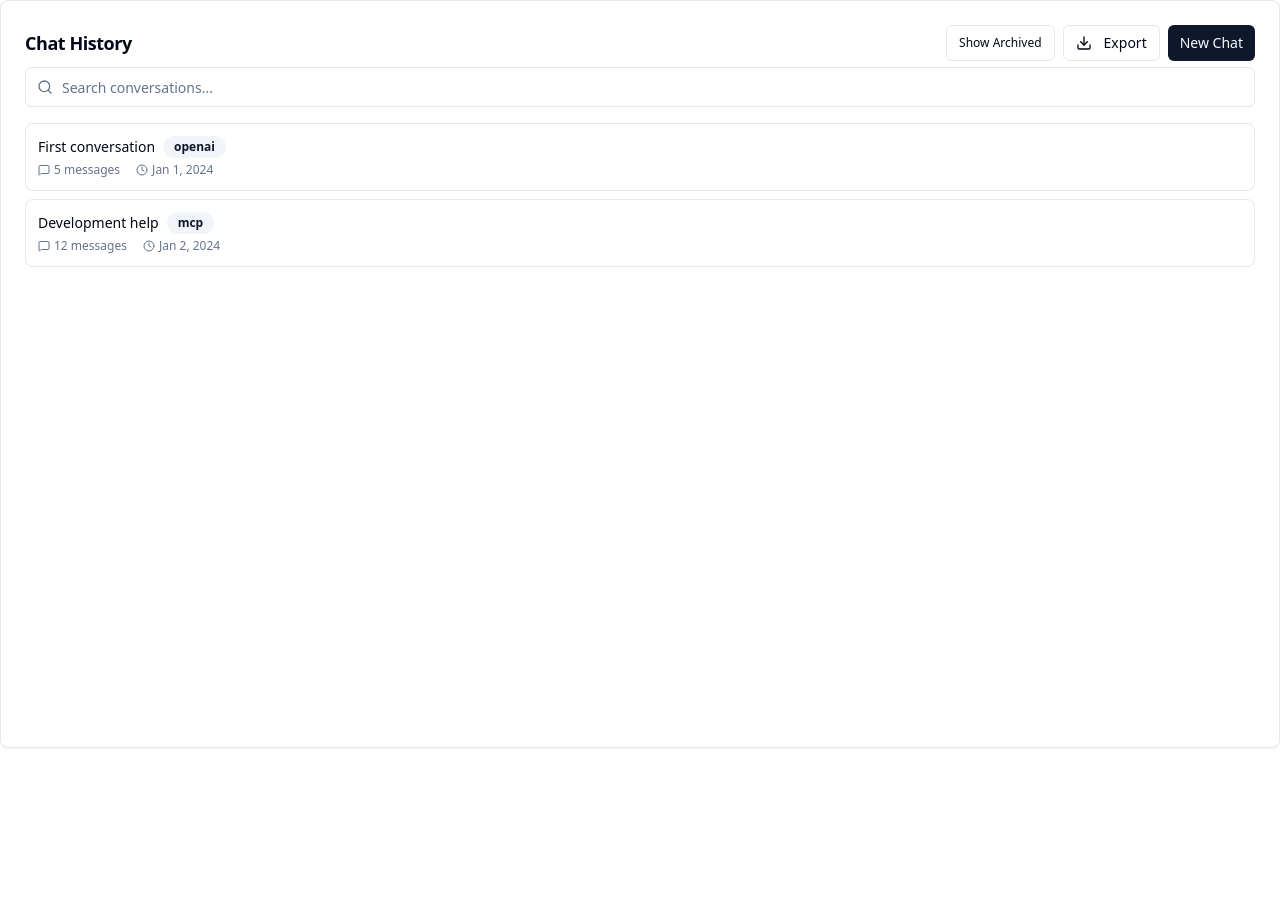
it: ChatHistory › Archive/Delete Functionality › should show archive button on conversation hover
Hover over the button with test id "conversation-1": {"x": 97, "y": 146} x1=25 y1=123 x2=1255 y2=191
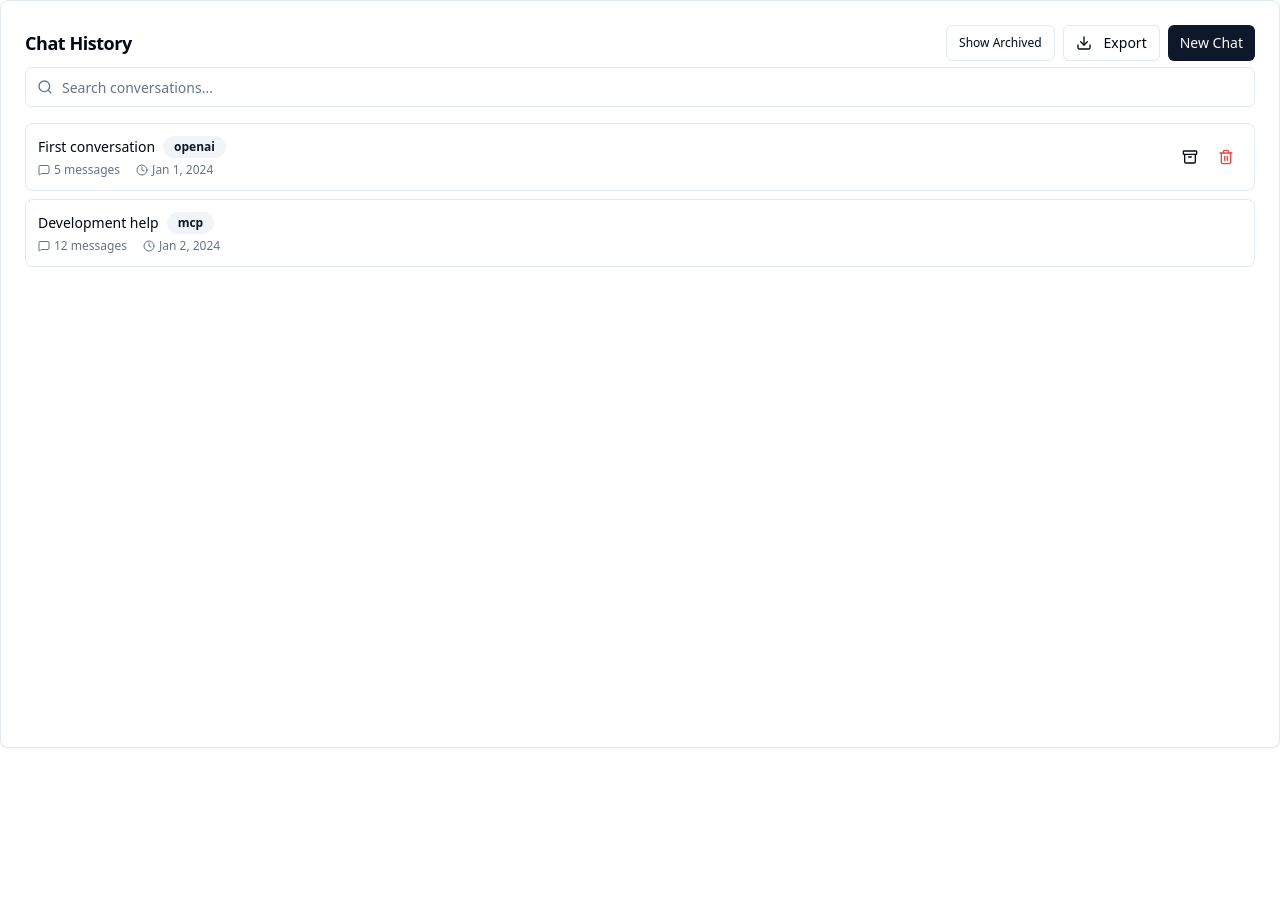
Check: the button named "archive conversation" is shown, box x1=1174 y1=141 x2=1206 y2=173
